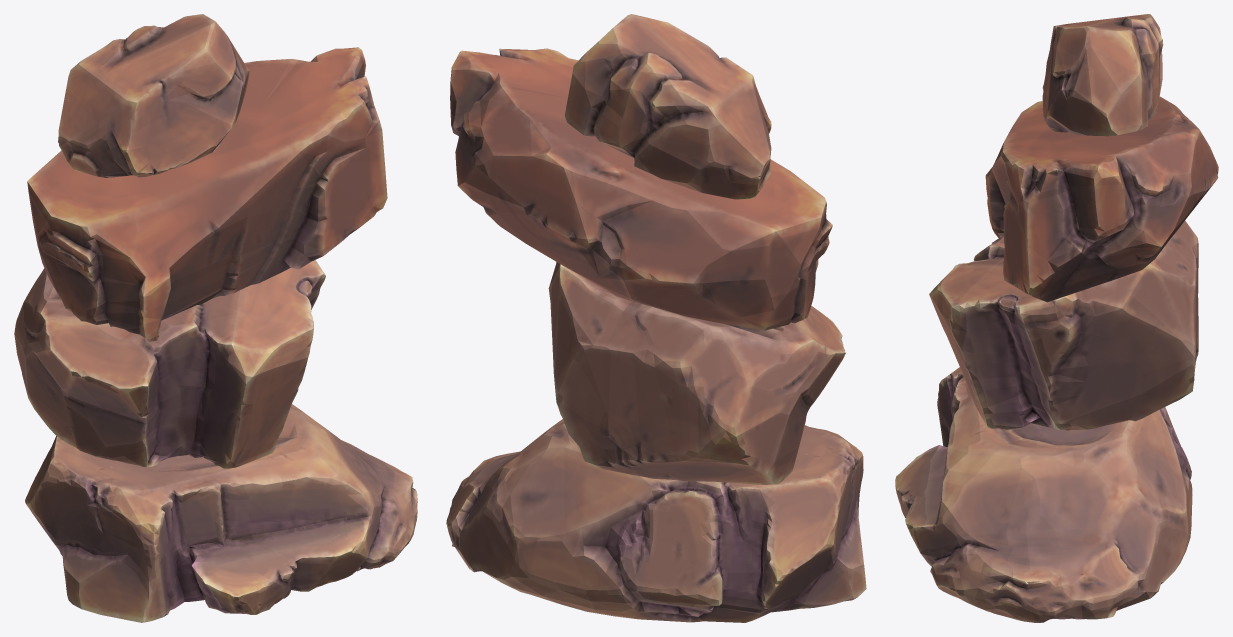
The picture shows the model from 3 angles, left to right: view 1: azimuth 30°, elevation 25°; view 2: azimuth 150°, elevation 25°; view 3: azimuth 270°, elevation 25°; orthographic projection. The views are drawn at different scales.
Visible parts, largest first — view 1: wire_rock_mid.1, wire_rock_bottom, wire_rock_mid.2, wire_rock_top; view 2: wire_rock_bottom, wire_rock_mid.1, wire_rock_mid.2, wire_rock_top; view 3: wire_rock_bottom, wire_rock_mid.2, wire_rock_mid.1, wire_rock_top.
Part boxes in pixels (x1,y1,x2,y2): wire_rock_mid.1: [27, 47, 387, 341]; wire_rock_bottom: [25, 404, 417, 622]; wire_rock_mid.2: [14, 260, 325, 468]; wire_rock_top: [58, 14, 249, 177]; wire_rock_bottom: [446, 419, 866, 622]; wire_rock_mid.1: [450, 48, 832, 330]; wire_rock_mid.2: [548, 262, 845, 484]; wire_rock_top: [564, 14, 771, 199]; wire_rock_bottom: [895, 367, 1192, 622]; wire_rock_mid.2: [929, 220, 1198, 430]; wire_rock_mid.1: [985, 96, 1218, 302]; wire_rock_top: [1042, 14, 1163, 136].
Size of the model in its own units: 221 by 307 by 174.
4 materials, 4 textured.
